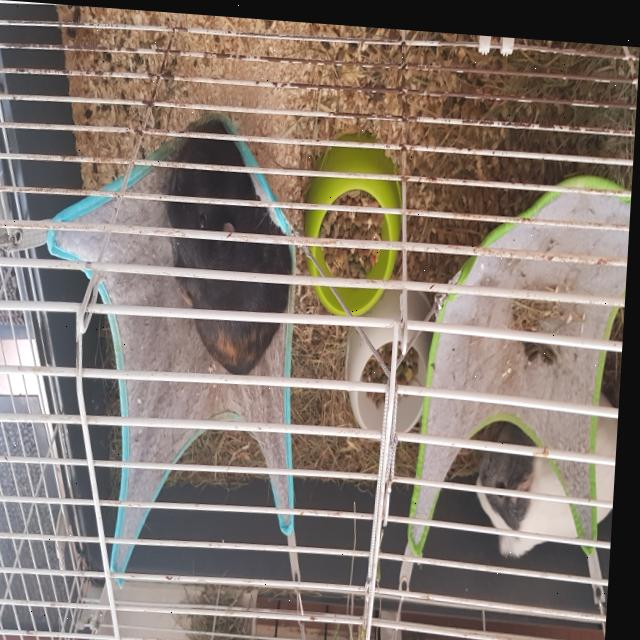guinea pig: (158, 111, 305, 379), (478, 379, 624, 557)
